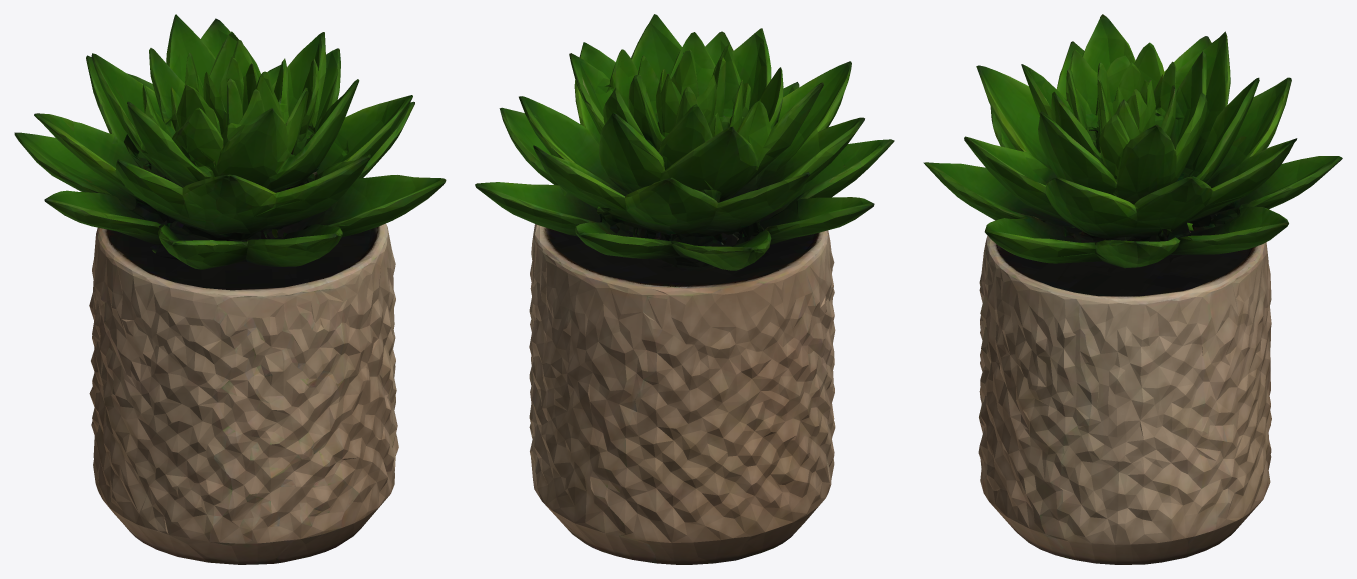
3 renders of one model, left to right at view 1: azimuth 30°, elevation 25°; view 2: azimuth 150°, elevation 25°; view 3: azimuth 270°, elevation 25°, orthographic. The views are drawn at different scales.
Visible parts, largest first — view 1: geometry_0; view 2: geometry_0; view 3: geometry_0.
Part boxes in pixels (x1,y1,x2,y2): geometry_0: (14, 14, 446, 564); geometry_0: (475, 14, 894, 564); geometry_0: (923, 14, 1342, 564).
Bounding box in the file's own units: 0.8573 × 0.9986 × 0.8624.
Materials: 1 (1 with a texture image).
